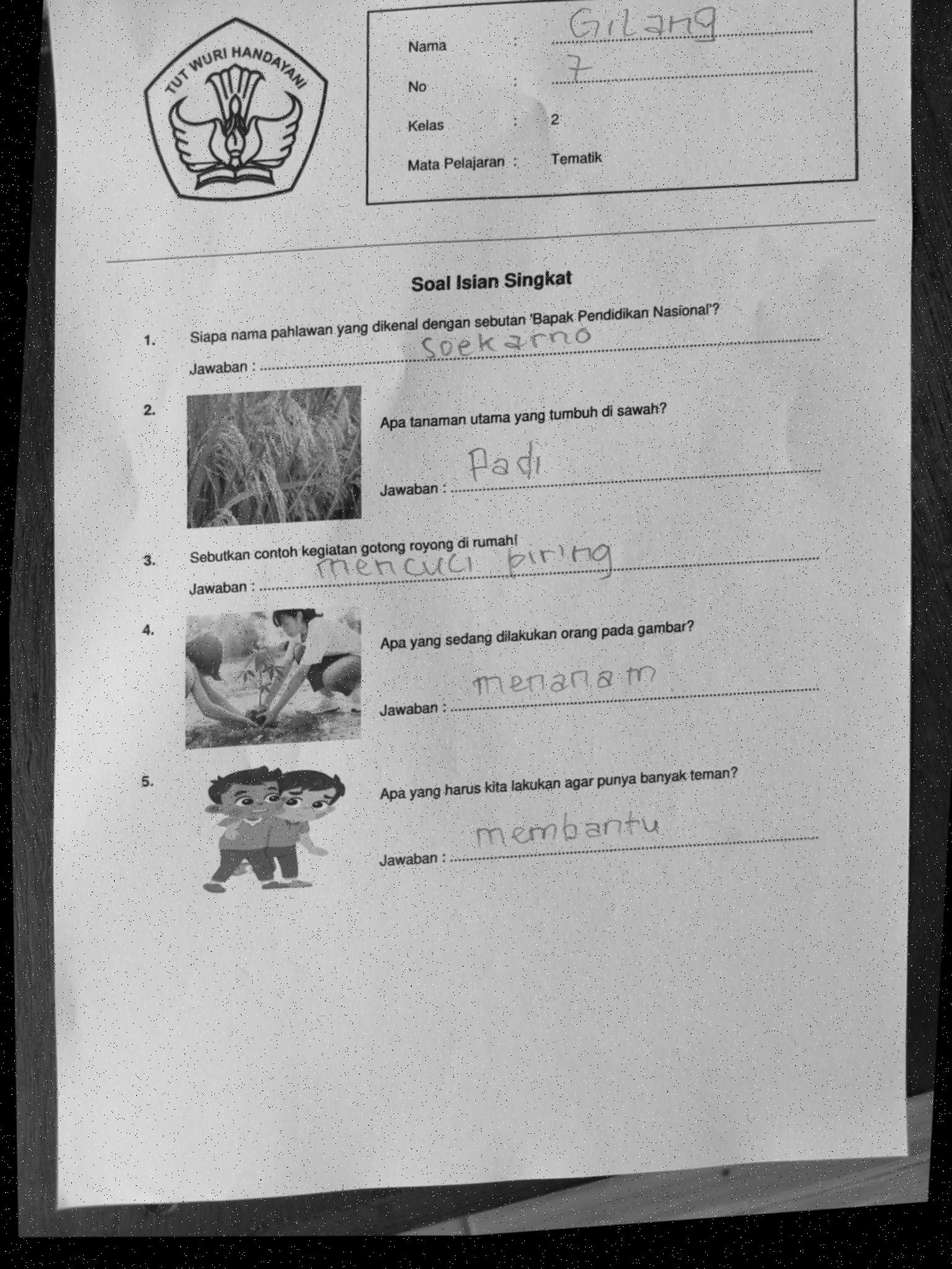soal-1: (130, 280, 843, 391)
soal-2: (133, 356, 842, 541)
soal-3: (132, 505, 842, 605)
soal-4: (123, 583, 844, 759)
soal-5: (128, 726, 839, 898)
